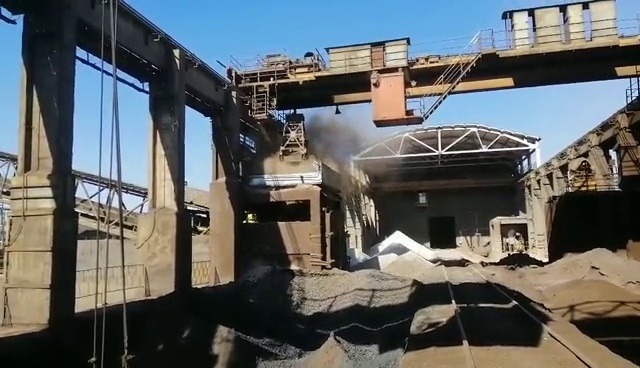dust: (261, 114, 406, 182)
grab: (274, 109, 310, 163)
